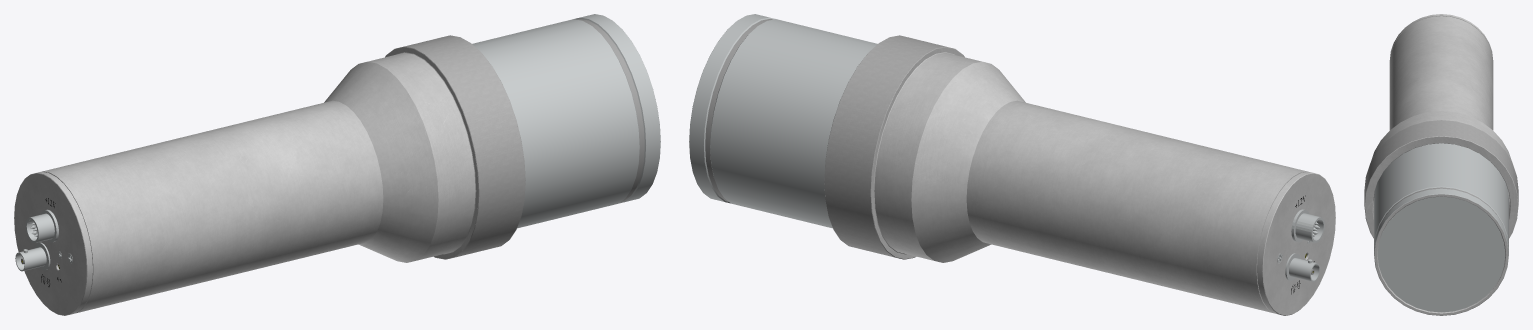
The model's file is Detector.gltf.
3 views of the same model, side by side, from view 1: azimuth 30°, elevation 25°; view 2: azimuth 150°, elevation 25°; view 3: azimuth 270°, elevation 25° (orthographic). The views are drawn at different scales.
Visible parts, largest first — view 1: Detector; view 2: Detector; view 3: Detector.
Boxes of the visible parts, x1,y1,x2,y2 form: Detector: [14, 14, 660, 315]; Detector: [689, 14, 1335, 315]; Detector: [1364, 14, 1518, 315].
Size of the model in its own units: 3.55 by 1.14 by 1.14.
7 materials, 3 textured.
